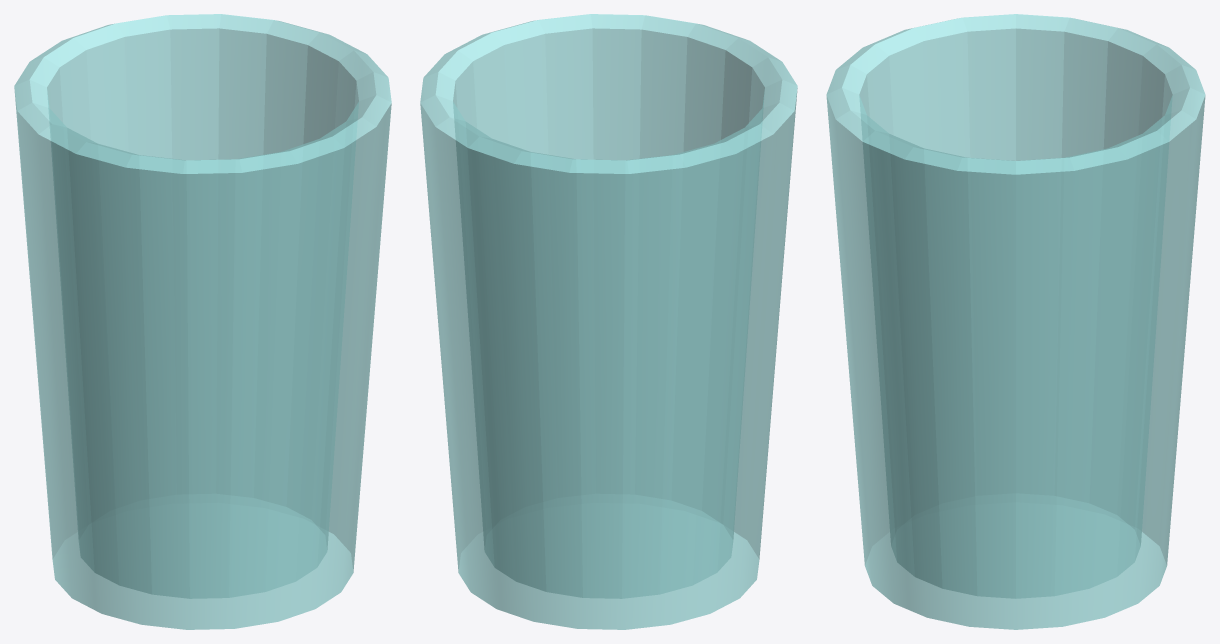
Rendered from glass.glb.
The picture shows the model from 3 angles, left to right: view 1: azimuth 30°, elevation 25°; view 2: azimuth 150°, elevation 25°; view 3: azimuth 270°, elevation 25°; orthographic projection.
Visible parts, largest first — view 1: pCylinder4; view 2: pCylinder4; view 3: pCylinder4.
Boxes of the visible parts, x1,y1,x2,y2 form: pCylinder4: (14, 14, 391, 629); pCylinder4: (420, 14, 797, 629); pCylinder4: (826, 14, 1205, 629).
Size of the model in its own units: 0.02 by 0.0279 by 0.02.
